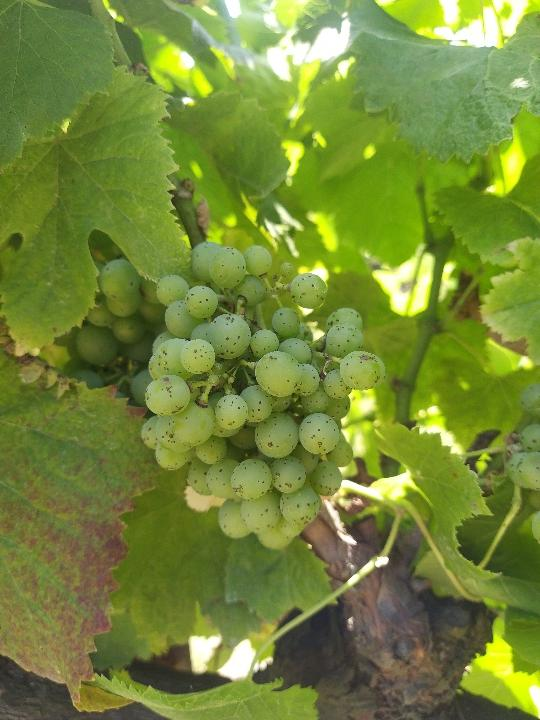grape: (138, 240, 387, 551)
